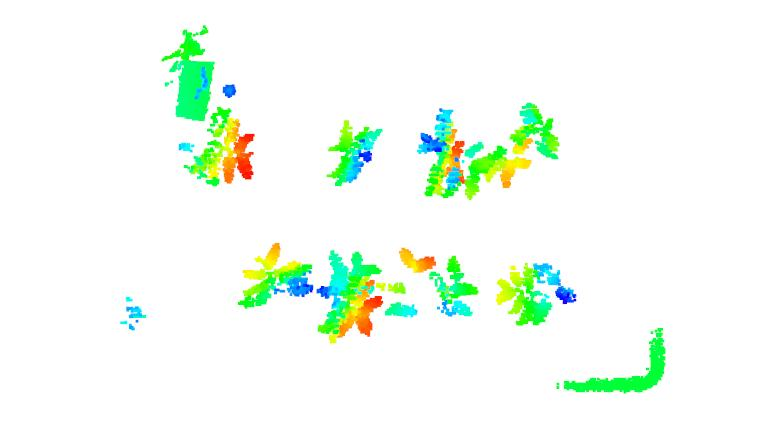chickpea: (411, 106, 527, 202), (380, 247, 484, 323), (315, 249, 386, 345), (492, 259, 581, 328), (185, 105, 257, 186), (232, 240, 316, 309), (324, 114, 385, 188), (505, 99, 572, 162)
